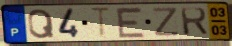4: (57, 7, 83, 41)
E: (114, 6, 147, 39)
Q: (27, 8, 57, 41)
R: (178, 6, 209, 37)
T: (89, 6, 113, 40)
Z: (151, 7, 181, 37)
